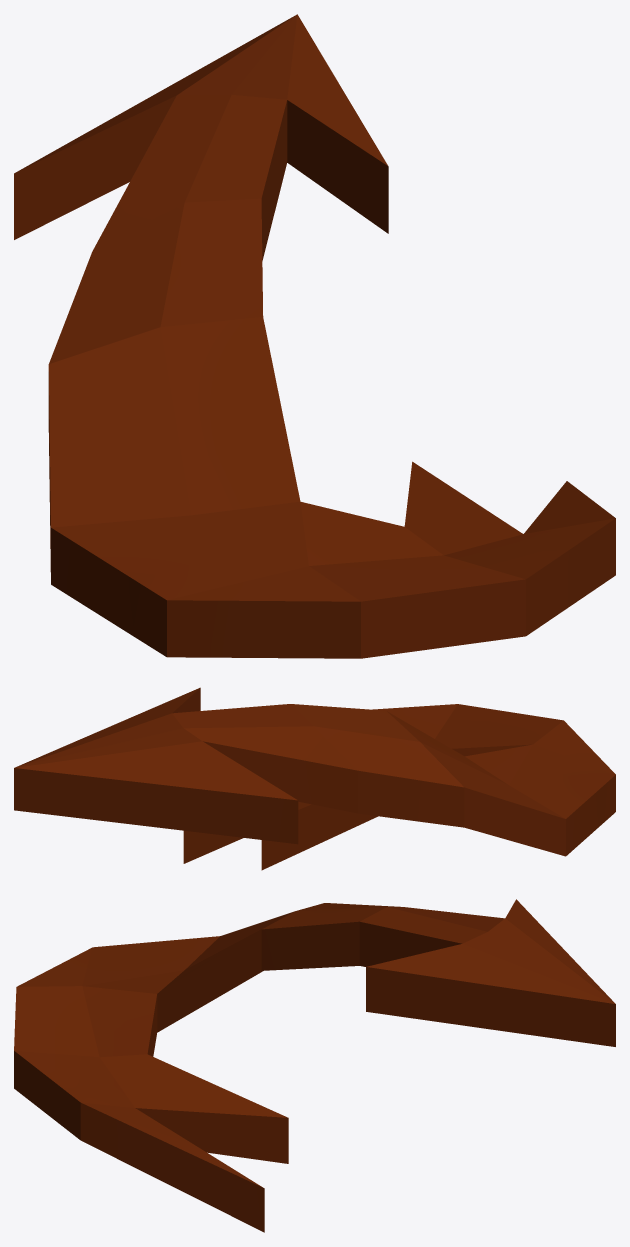
The model's file is mod_arrowBackCard.fbx.
3 renders of one model, top to bottom at view 1: azimuth 30°, elevation 25°; view 2: azimuth 150°, elevation 25°; view 3: azimuth 270°, elevation 25°, orthographic. The views are drawn at different scales.
Visible parts, largest first — view 1: ArrowUI; view 2: ArrowUI; view 3: ArrowUI.
Boxes of the visible parts, x1,y1,x2,y2 form: ArrowUI: (14,14,615,658); ArrowUI: (14,687,615,870); ArrowUI: (14,899,615,1232).
Size of the model in its own units: 10.07 by 6.5 by 14.38.
